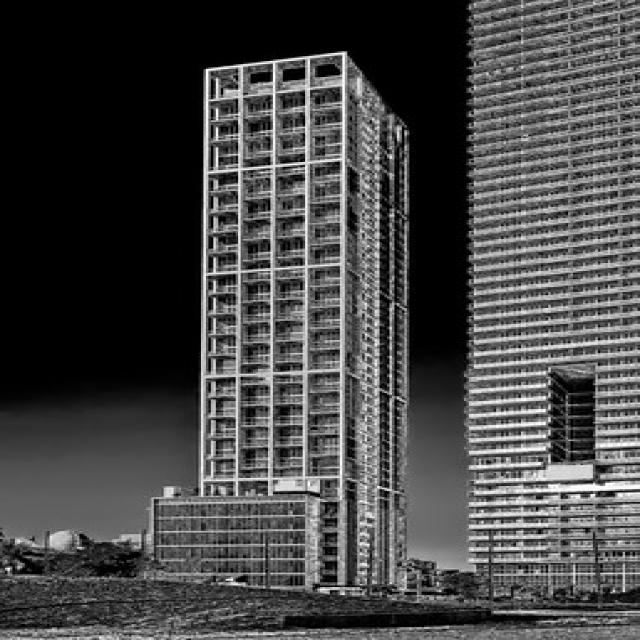Normal_building: (189, 48, 414, 595)
